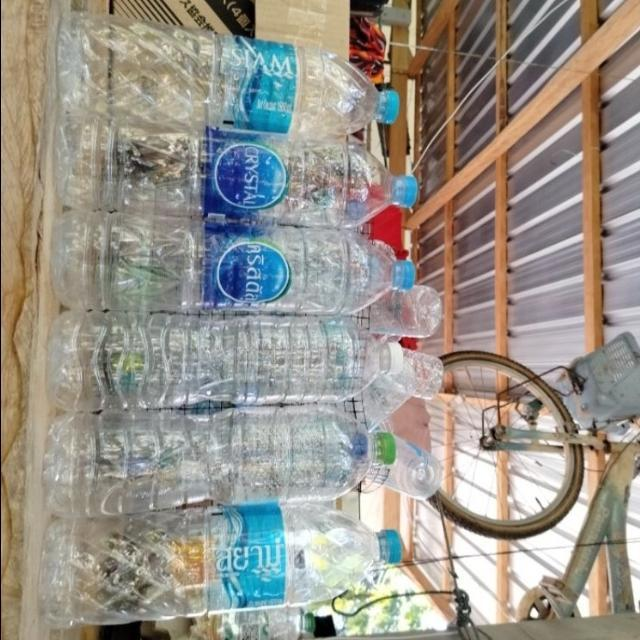PET Bottle: (18, 5, 424, 141), (34, 124, 452, 232), (28, 407, 420, 516), (44, 224, 447, 322), (34, 514, 392, 612), (34, 319, 436, 403)
